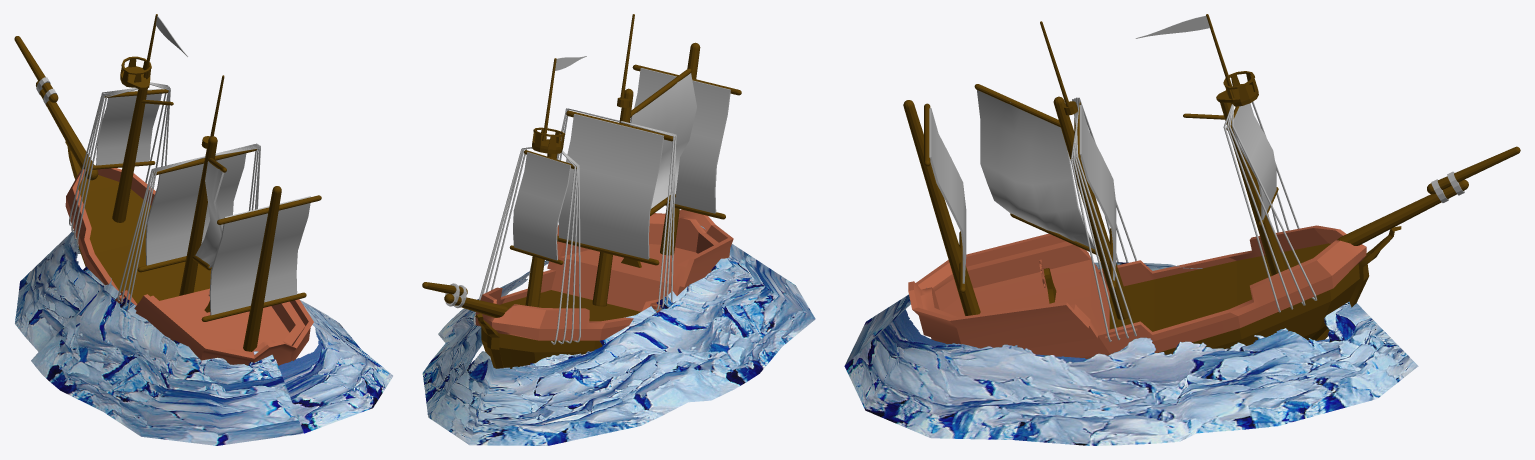
File: Ship_in_ice.fbx
3 renders of one model, left to right at view 1: azimuth 30°, elevation 25°; view 2: azimuth 150°, elevation 25°; view 3: azimuth 270°, elevation 25°, orthographic. The views are drawn at different scales.
Visible parts, largest first — view 1: pCylinder18, Circle; view 2: pCylinder18, Circle; view 3: pCylinder18, Circle.
Boxes of the visible parts, <box> form: pCylinder18: <box>14,14,321,365</box>; Circle: <box>15,230,392,445</box>; pCylinder18: <box>422,14,741,368</box>; Circle: <box>422,225,815,445</box>; pCylinder18: <box>903,14,1520,358</box>; Circle: <box>844,262,1418,445</box>.
Bounding box in the file's own units: 2663 × 3334 × 4781.
